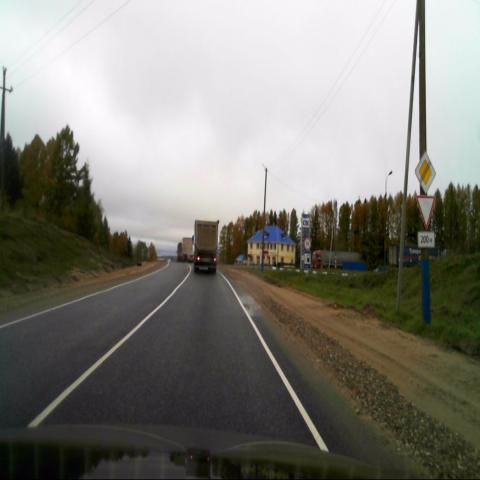8_1_1: (418, 233, 434, 247)
